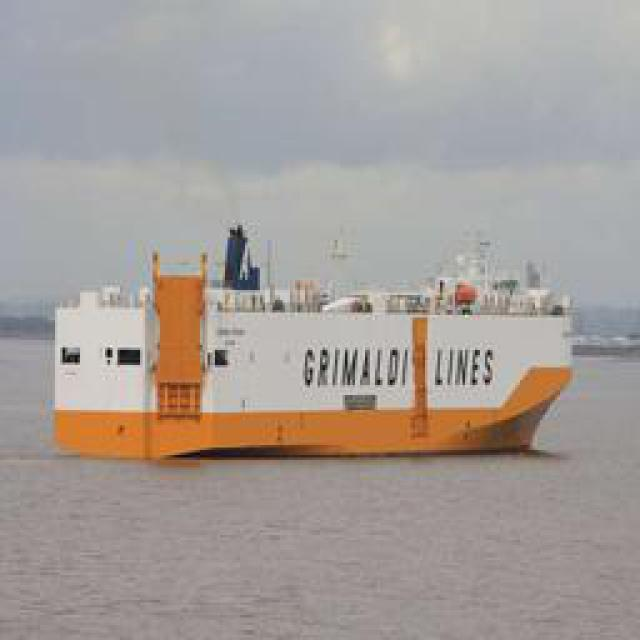Ship: (15, 225, 573, 465)
